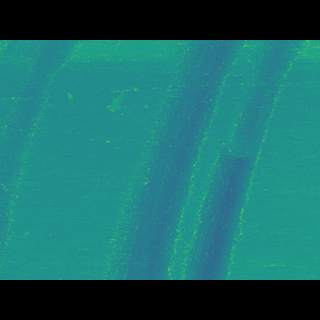Loch: (100, 68, 245, 250), (177, 69, 308, 250), (0, 68, 75, 230)
